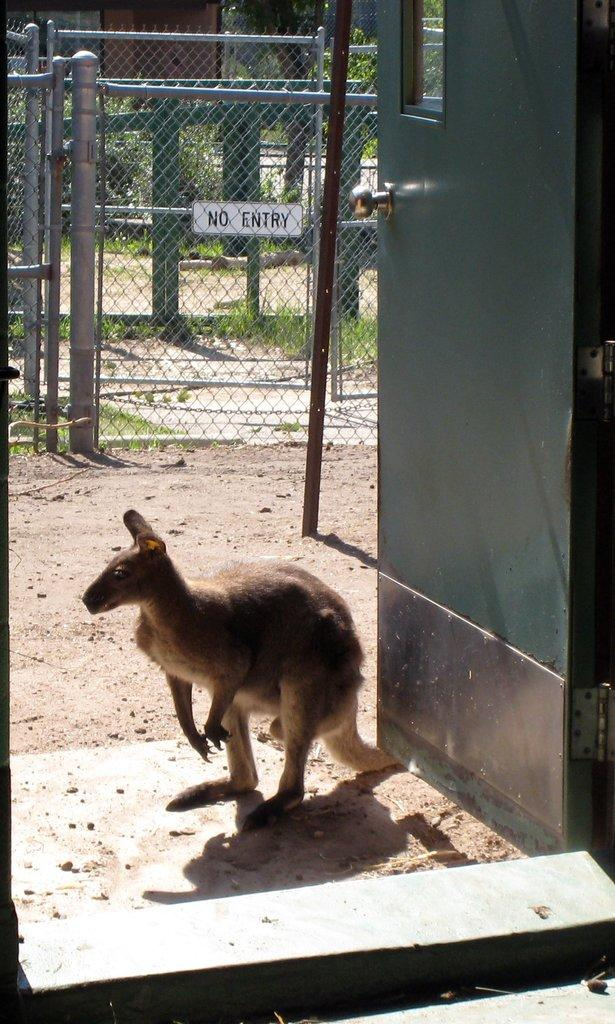kangaroo: (82, 510, 403, 826)
